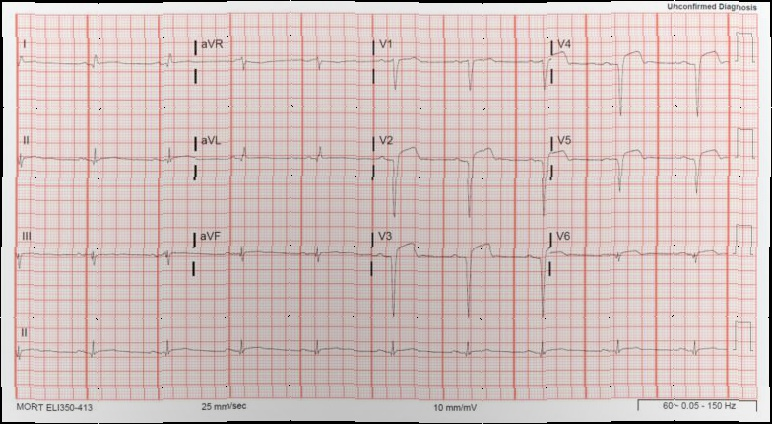Lead_I: (15, 31, 195, 98)
Lead_II: (12, 125, 194, 188)
Lead_III: (12, 222, 193, 287)
Lead_II_ext: (14, 326, 732, 377)
Lead_V1: (372, 29, 551, 98)
Lead_V2: (370, 126, 551, 227)
Lead_V3: (372, 225, 552, 331)
Lead_V4: (551, 26, 730, 123)
Lead_V5: (550, 126, 732, 202)
Lead_V6: (551, 224, 729, 287)
Lead_aVF: (194, 224, 371, 283)
Lead_aVL: (194, 127, 372, 189)
Lead_aVR: (195, 30, 373, 86)
